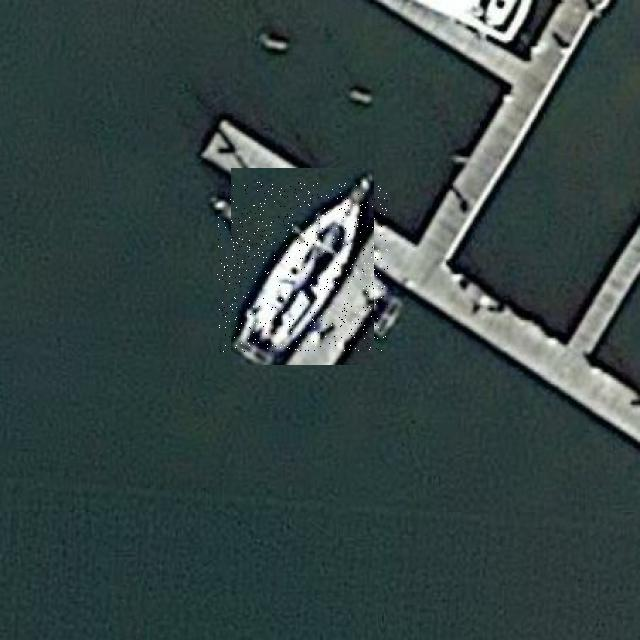boat: (217, 182, 388, 352)
